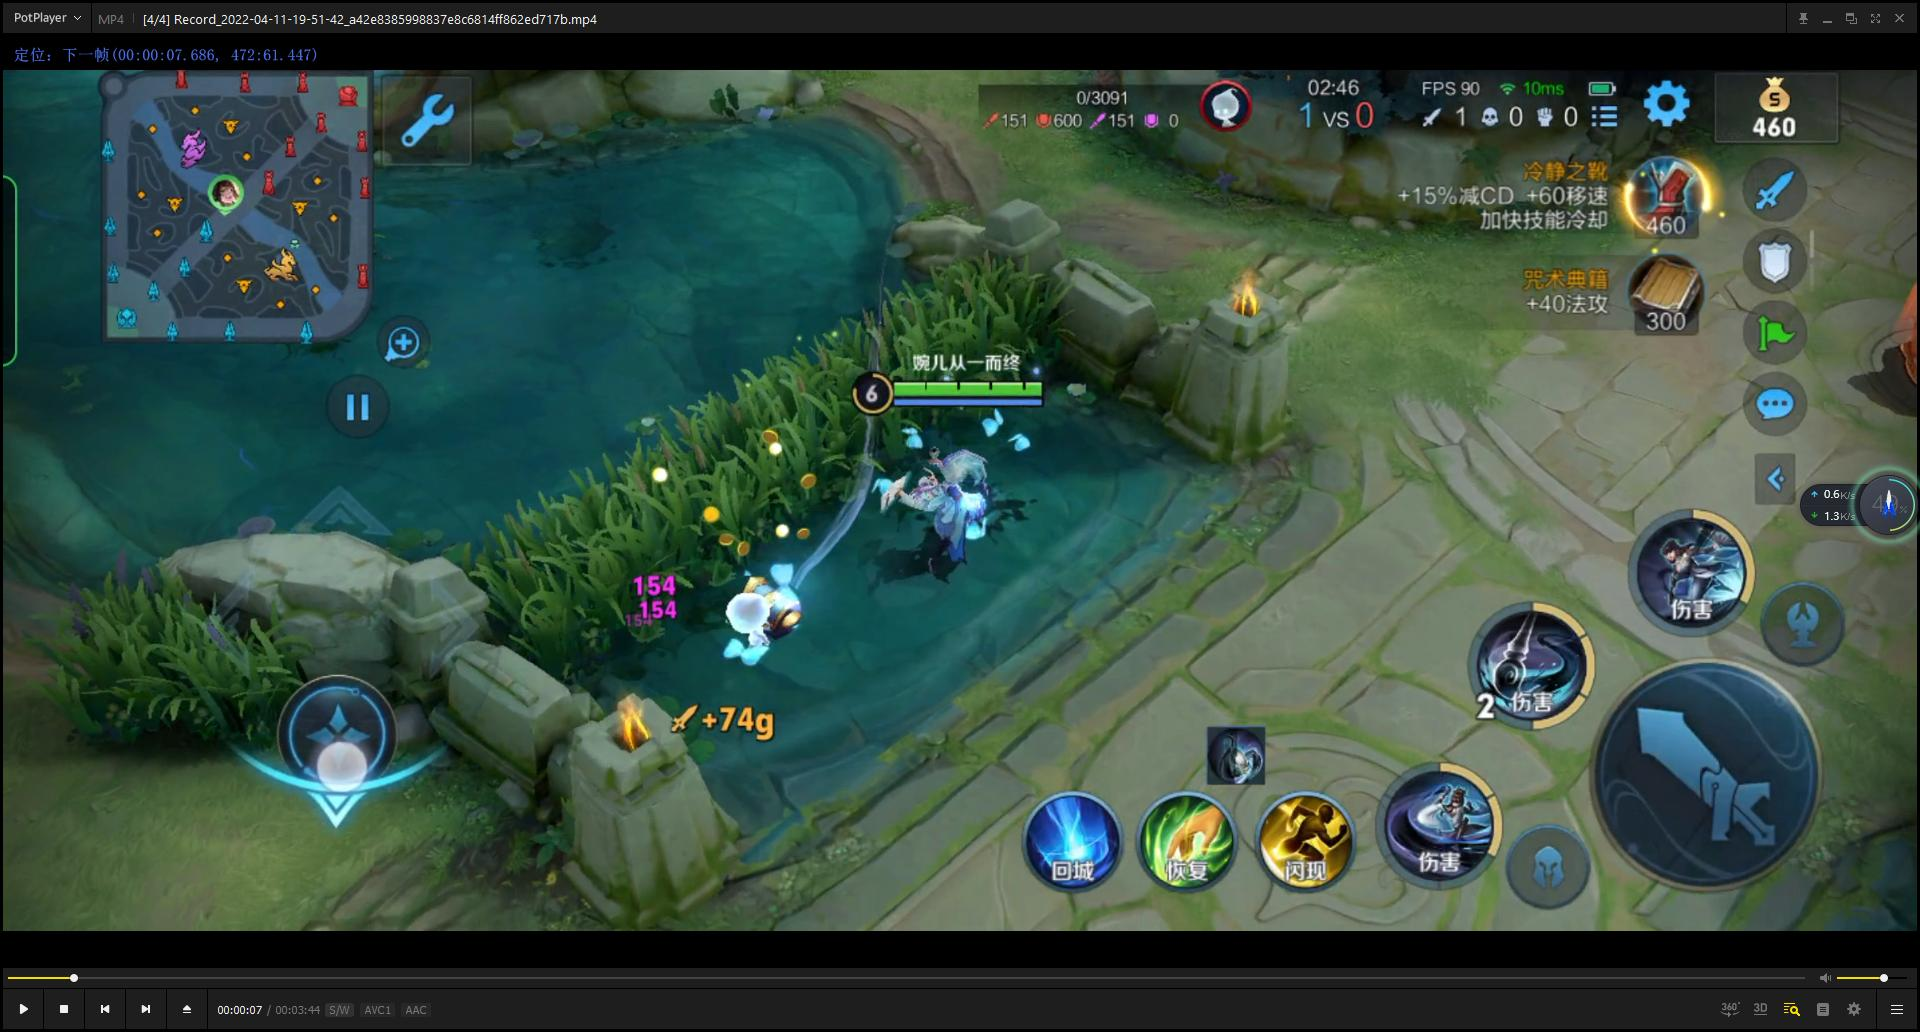Hero: (836, 413, 1036, 586)
Spirit: (686, 533, 837, 667)
